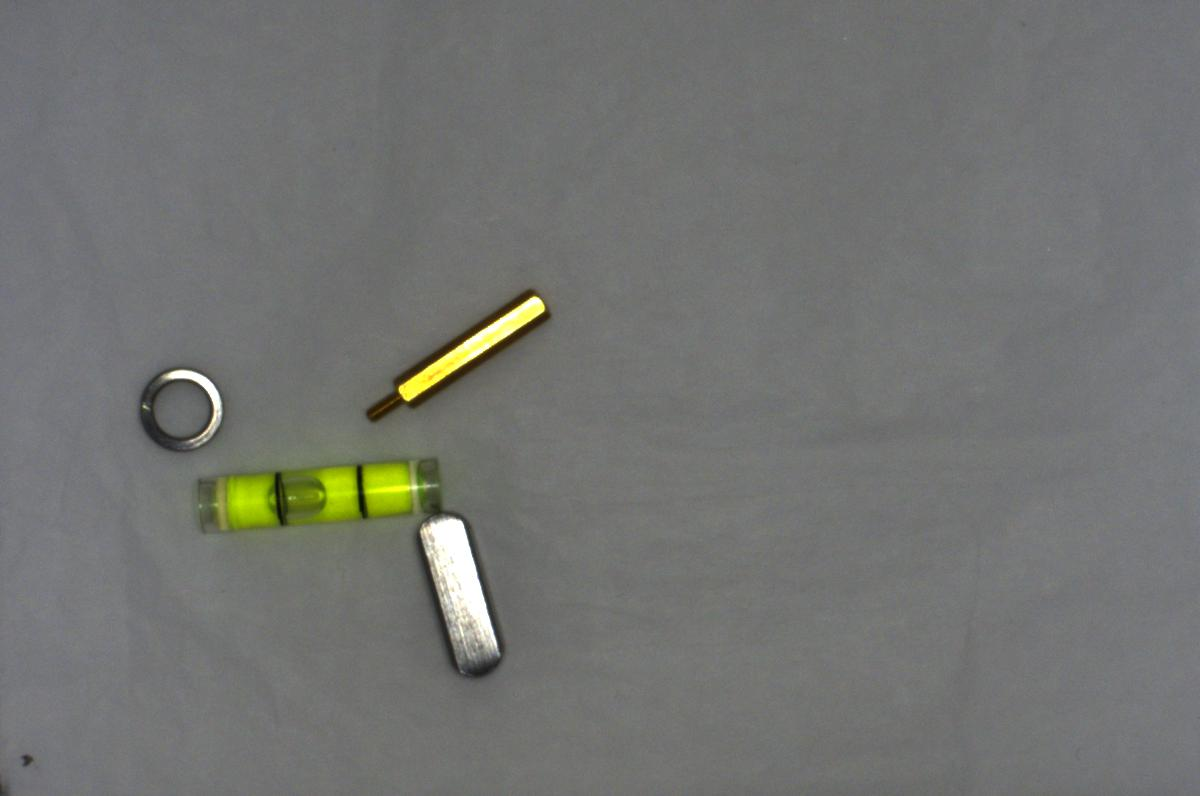Hexagon pillar: (351, 282, 560, 426)
Horizontal bubble: (188, 449, 446, 532)
Keybar: (413, 500, 513, 683)
Spring washer: (128, 360, 222, 458)
